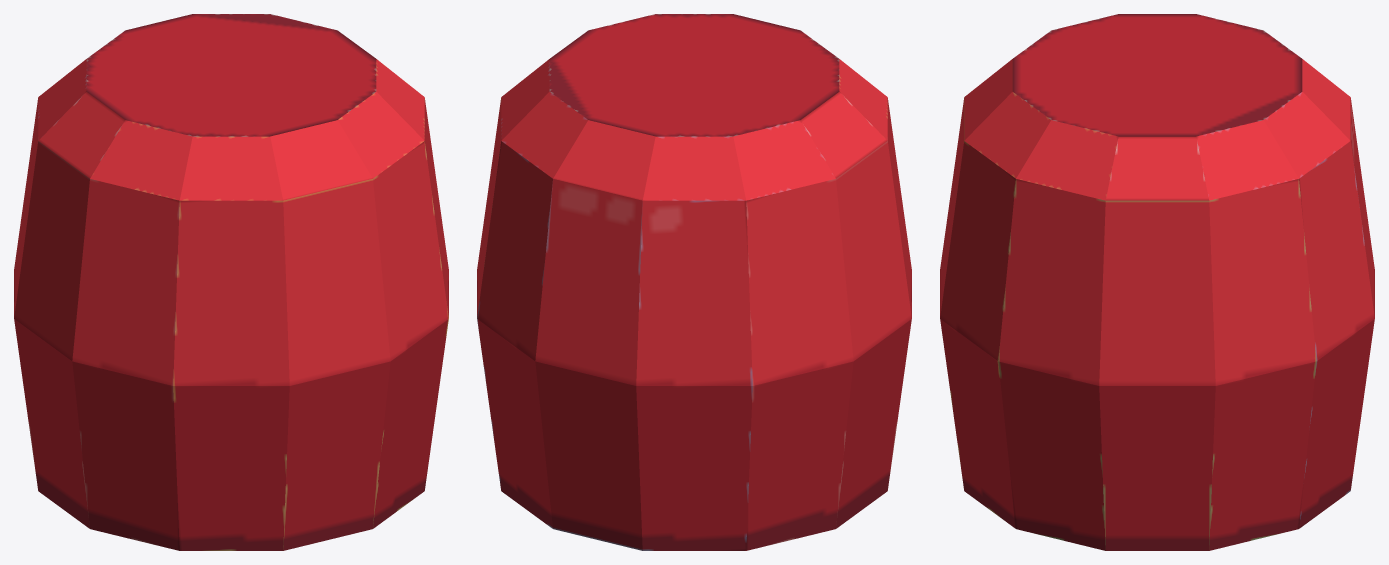
Rendered from water_butt.fbx.
The picture shows the model from 3 angles, left to right: view 1: azimuth 30°, elevation 25°; view 2: azimuth 150°, elevation 25°; view 3: azimuth 270°, elevation 25°; orthographic projection.
Visible parts, largest first — view 1: cylinder; view 2: cylinder; view 3: cylinder.
Part boxes in pixels (box(x1,y1,x2,y2)): cylinder: box(14, 14, 448, 550); cylinder: box(477, 14, 911, 550); cylinder: box(940, 14, 1374, 550).
Bounding box in the file's own units: 112 × 112 × 112.
Materials: 1 (1 with a texture image).
